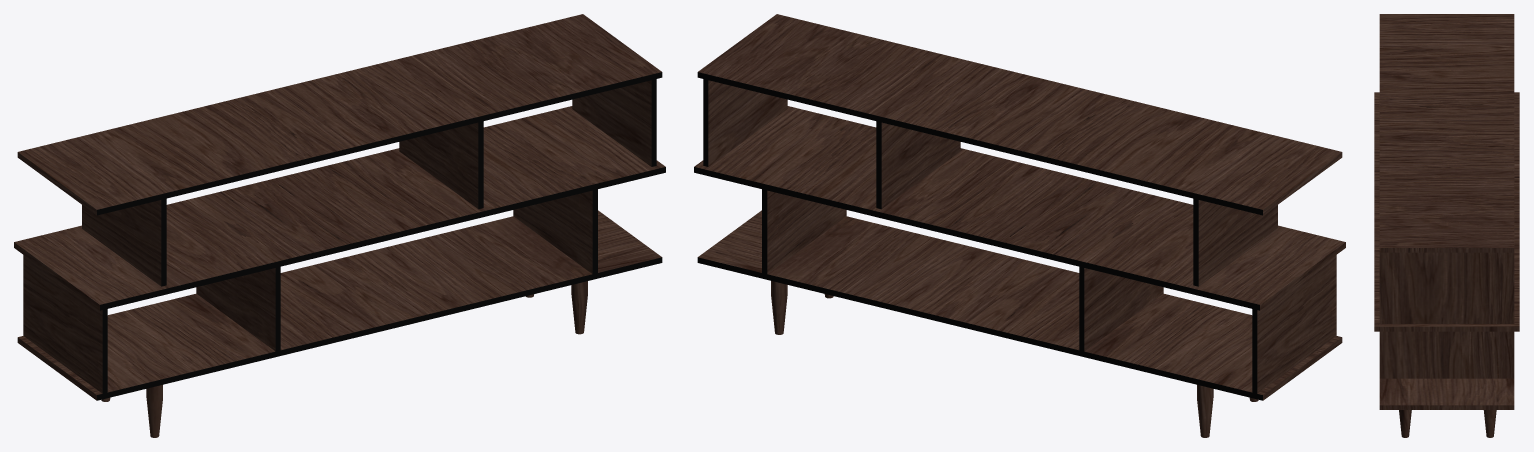
The model's file is tvstand.glb.
3 renders of one model, left to right at view 1: azimuth 30°, elevation 25°; view 2: azimuth 150°, elevation 25°; view 3: azimuth 270°, elevation 25°, orthographic. The views are drawn at different scales.
Parts seen in each view (by area): view 1: S_tvstand_A_EHH_01_tvstand2_0, S_tvstand_A_EHH_01_tvstand4_0, S_tvstand_A_EHH_01_tvstand5_0; view 2: S_tvstand_A_EHH_01_tvstand2_0, S_tvstand_A_EHH_01_tvstand4_0, S_tvstand_A_EHH_01_tvstand3_0; view 3: S_tvstand_A_EHH_01_tvstand2_0, S_tvstand_A_EHH_01_tvstand1_0, S_tvstand_A_EHH_01_tvstand4_0.
Boxes of the visible parts, box(x1,y1,x2,y2) form: S_tvstand_A_EHH_01_tvstand2_0: box(14, 14, 665, 394); S_tvstand_A_EHH_01_tvstand4_0: box(14, 80, 651, 437); S_tvstand_A_EHH_01_tvstand5_0: box(97, 72, 665, 400); S_tvstand_A_EHH_01_tvstand2_0: box(694, 14, 1345, 394); S_tvstand_A_EHH_01_tvstand4_0: box(708, 80, 1345, 437); S_tvstand_A_EHH_01_tvstand3_0: box(694, 72, 1262, 400); S_tvstand_A_EHH_01_tvstand2_0: box(1374, 14, 1519, 405); S_tvstand_A_EHH_01_tvstand1_0: box(1374, 248, 1519, 409); S_tvstand_A_EHH_01_tvstand4_0: box(1399, 410, 1496, 437).
Size of the model in its own units: 1.42 by 0.6104 by 0.3724.
6 materials, 3 textured.
